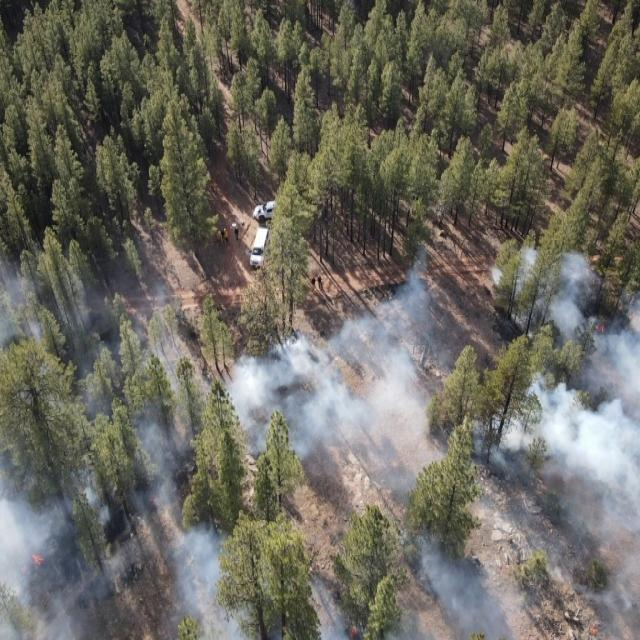fire: (22, 552, 44, 578), (346, 621, 359, 640), (594, 324, 608, 338)
smoke: (2, 247, 640, 640)
